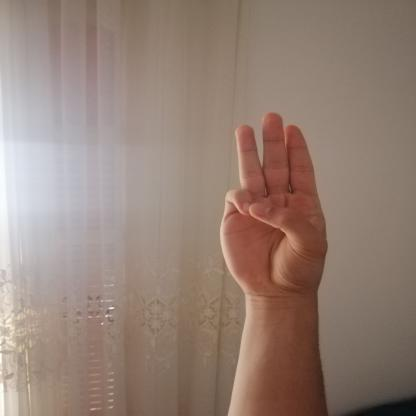THA: (201, 104, 348, 304)
